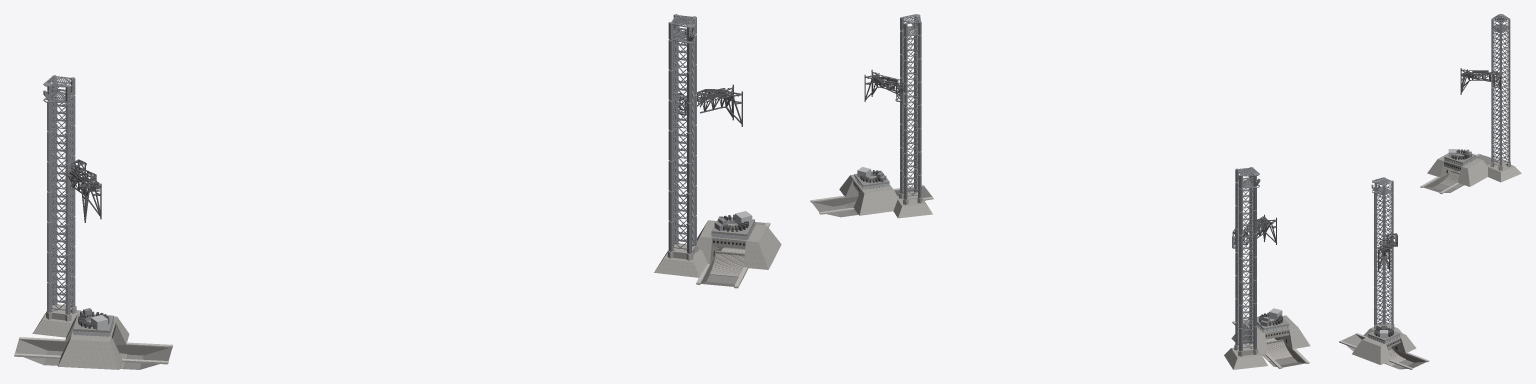
The model's file is pad.glb.
3 renders of one model, left to right at view 1: azimuth 30°, elevation 25°; view 2: azimuth 150°, elevation 25°; view 3: azimuth 270°, elevation 25°, orthographic. The views are drawn at different scales.
Parts seen in each view (by area): view 1: Pad2_Tower, Pad1_Tower, Pad2_LaunchMount_Concrete, Pad1_LaunchMount_Concrete, Pad2_Trench_Lining, Pad1_Tower_Plinth, Pad1_FlameDiverter, Pad2_Trench_Caps, Pad2_Tower_Plinth; view 2: Pad2_Tower, Pad1_Tower, Pad1_LaunchMount_Concrete, Pad2_LaunchMount_Concrete, Pad1_Trench_Lining, Pad2_Tower_Plinth, Pad1_Tower_Plinth; view 3: Pad2_Tower, Pad1_Tower, Pad1_LaunchMount_Concrete, Pad2_LaunchMount_Concrete, Pad1_Trench_Lining, Pad2_Tower_Plinth, Pad2_Trench_Lining, Pad2_ShipQD_Arm, Pad1_Trench_Caps, Pad2_FlameDiverter, Pad2_Chopstick_R_Arm, Pad1_LaunchTable (+5 smaller).
Boxes of the visible parts, bbox=[...] form: Pad2_Tower: bbox=[43, 75, 75, 314]; Pad1_Tower: bbox=[668, 14, 696, 253]; Pad2_LaunchMount_Concrete: bbox=[58, 315, 129, 369]; Pad1_LaunchMount_Concrete: bbox=[697, 220, 781, 269]; Pad2_Trench_Lining: bbox=[15, 339, 172, 369]; Pad1_Tower_Plinth: bbox=[654, 249, 707, 277]; Pad1_FlameDiverter: bbox=[710, 248, 745, 277]; Pad2_Trench_Caps: bbox=[14, 337, 172, 364]; Pad2_Tower_Plinth: bbox=[32, 310, 81, 337]; Pad2_Tower: bbox=[1235, 167, 1260, 351]; Pad1_Tower: bbox=[900, 14, 921, 199]; Pad1_LaunchMount_Concrete: bbox=[839, 174, 898, 215]; Pad2_LaunchMount_Concrete: bbox=[1231, 315, 1310, 354]; Pad1_Trench_Lining: bbox=[811, 186, 932, 217]; Pad2_Tower_Plinth: bbox=[1224, 347, 1267, 369]; Pad1_Tower_Plinth: bbox=[893, 196, 932, 218]; Pad2_Tower: bbox=[1491, 14, 1510, 166]; Pad1_Tower: bbox=[1371, 177, 1393, 324]; Pad1_LaunchMount_Concrete: bbox=[1352, 328, 1416, 364]; Pad2_LaunchMount_Concrete: bbox=[1427, 153, 1487, 186]; Pad1_Trench_Lining: bbox=[1341, 334, 1426, 369]; Pad2_Tower_Plinth: bbox=[1487, 164, 1521, 182]; Pad2_Trench_Lining: bbox=[1423, 154, 1497, 192]; Pad2_ShipQD_Arm: bbox=[1462, 70, 1500, 87]; Pad1_Trench_Caps: bbox=[1339, 333, 1429, 369]; Pad2_FlameDiverter: bbox=[1440, 171, 1461, 188]; Pad2_Chopstick_R_Arm: bbox=[1460, 70, 1488, 94]; Pad1_LaunchTable: bbox=[1368, 330, 1400, 343].
Bounding box in the file's own units: 445 × 155 × 160.
Materials: 9 (3 with a texture image).
